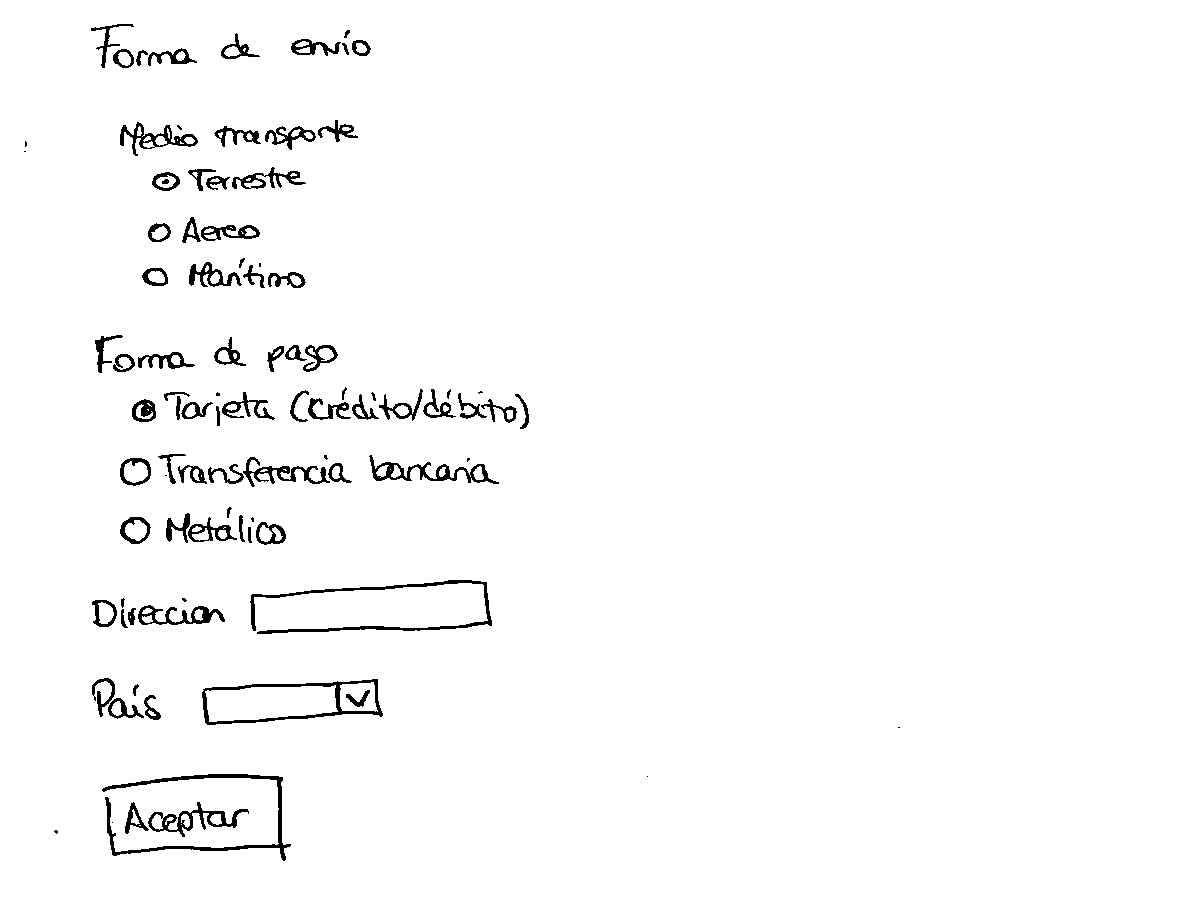Button: (101, 767, 294, 860)
Radio Button: (117, 447, 352, 494), (119, 507, 294, 550), (127, 385, 280, 434), (138, 254, 310, 295), (148, 163, 313, 198), (145, 212, 270, 245)
Select: (198, 676, 386, 728)
Textbox: (248, 575, 492, 637)
